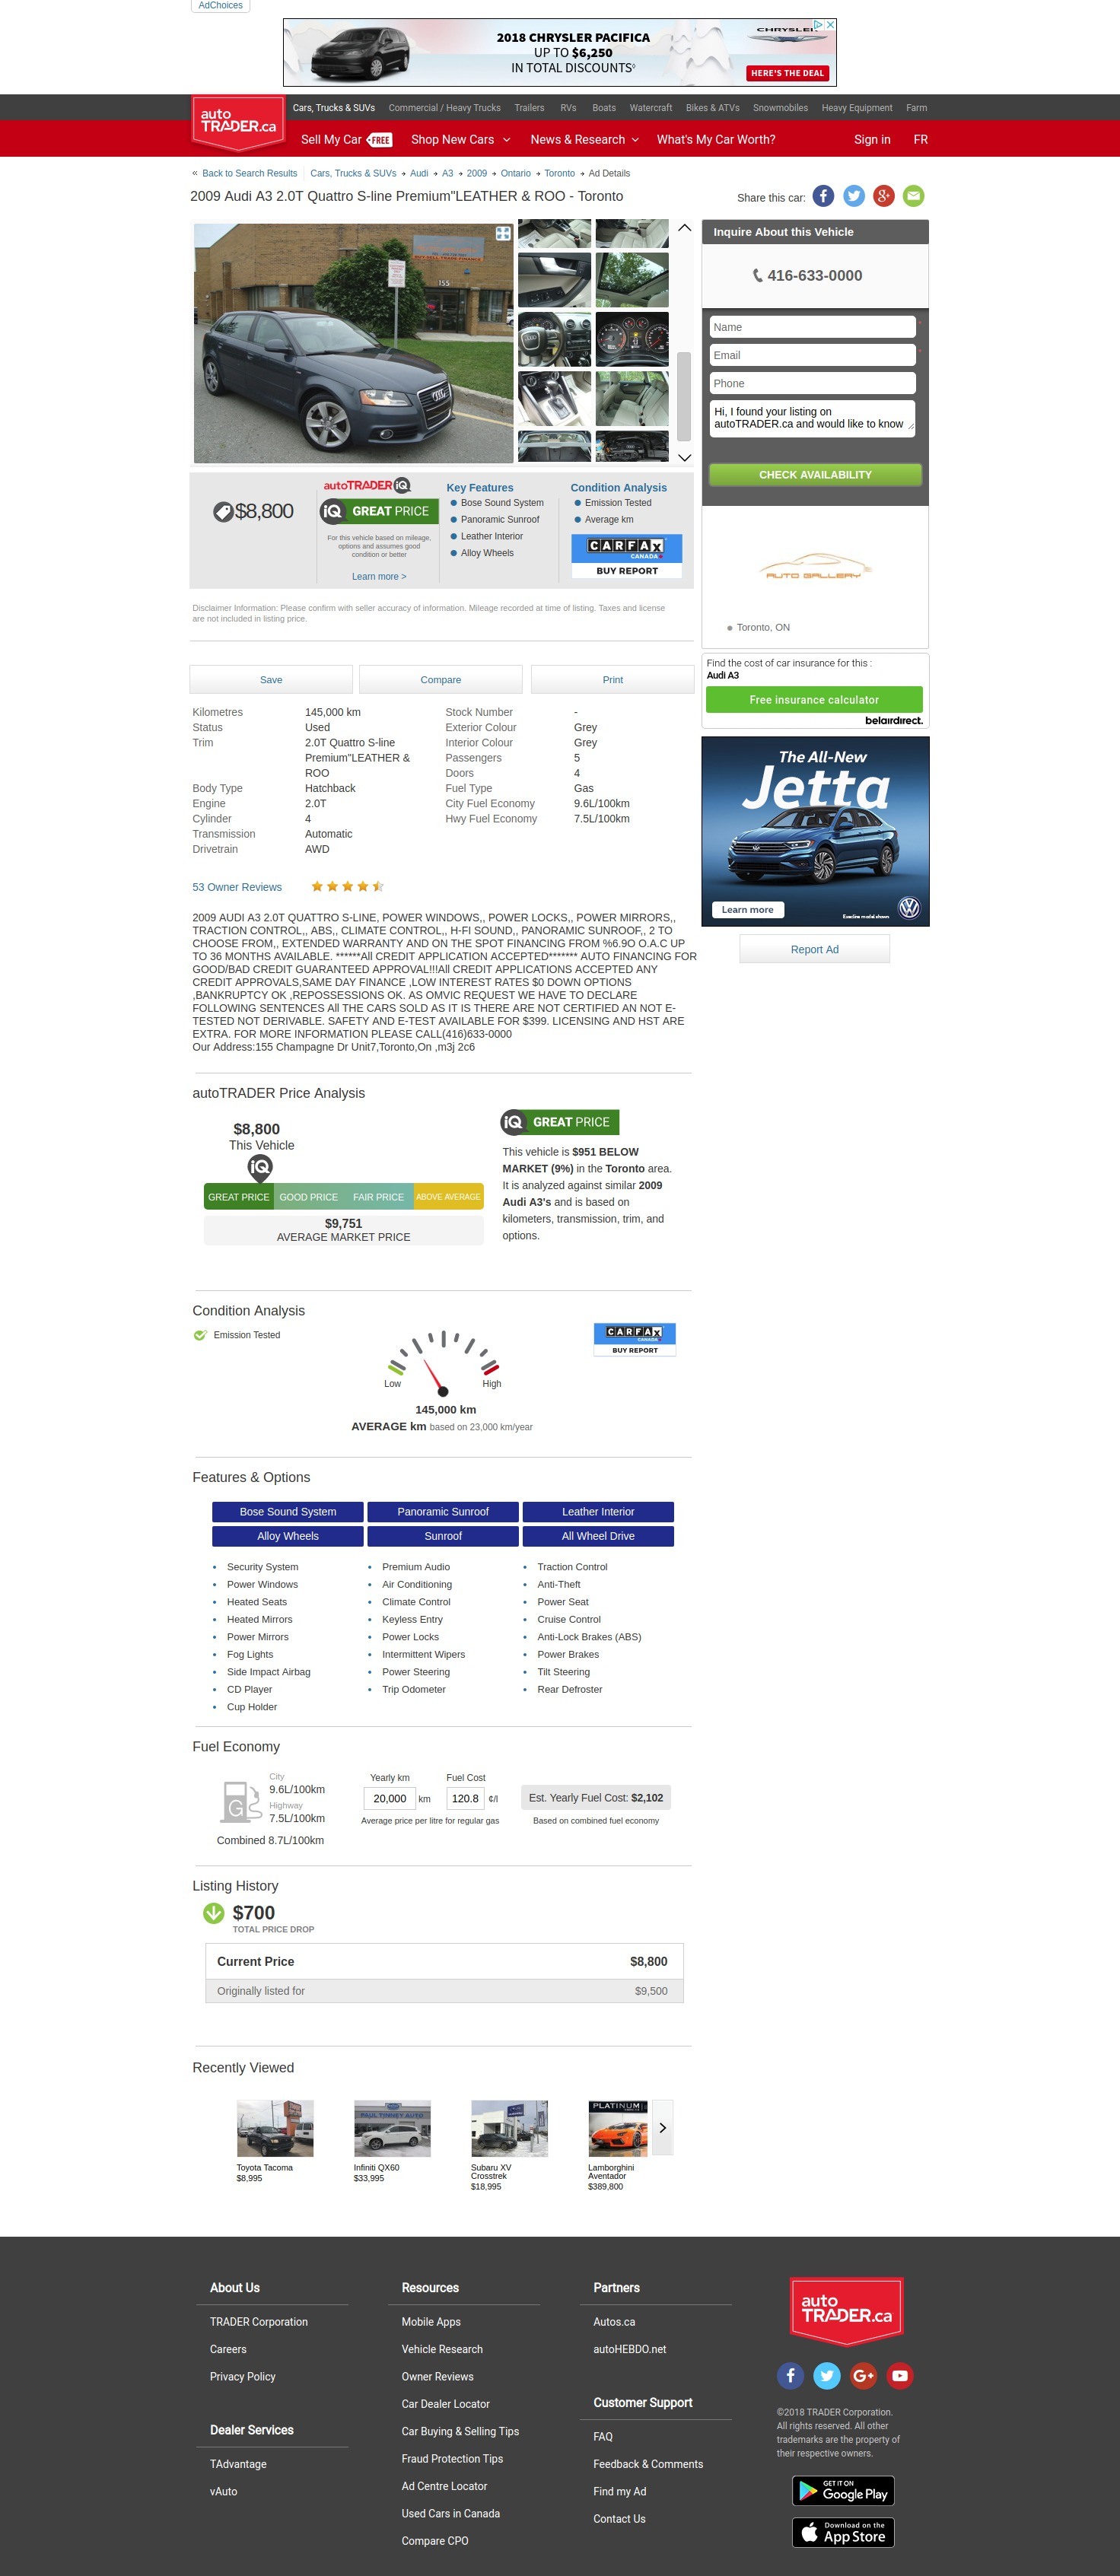car: (678, 453, 693, 465)
